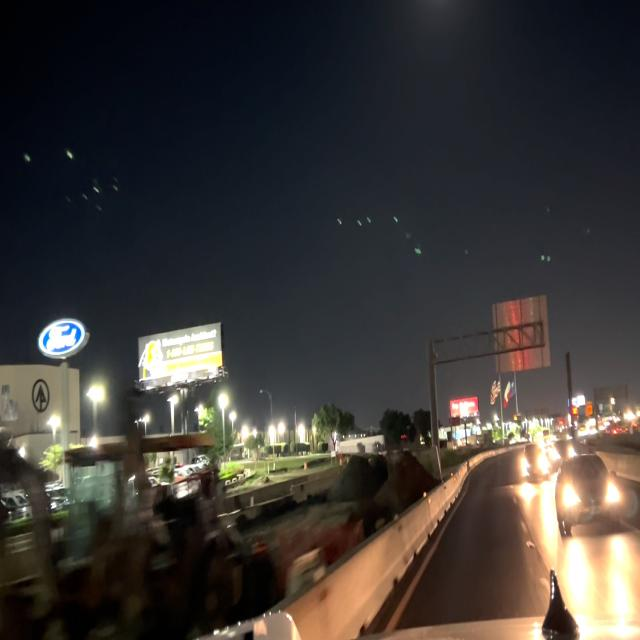back-of-sign: (486, 287, 553, 376)
